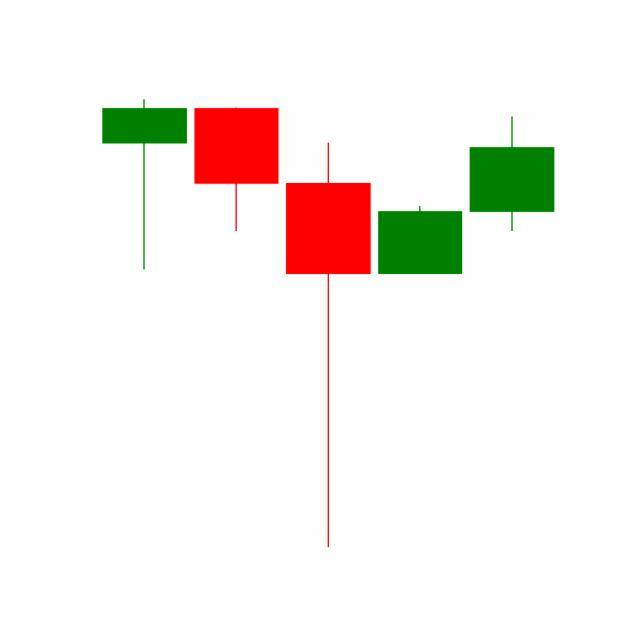Marubozu: (374, 205, 468, 275)
